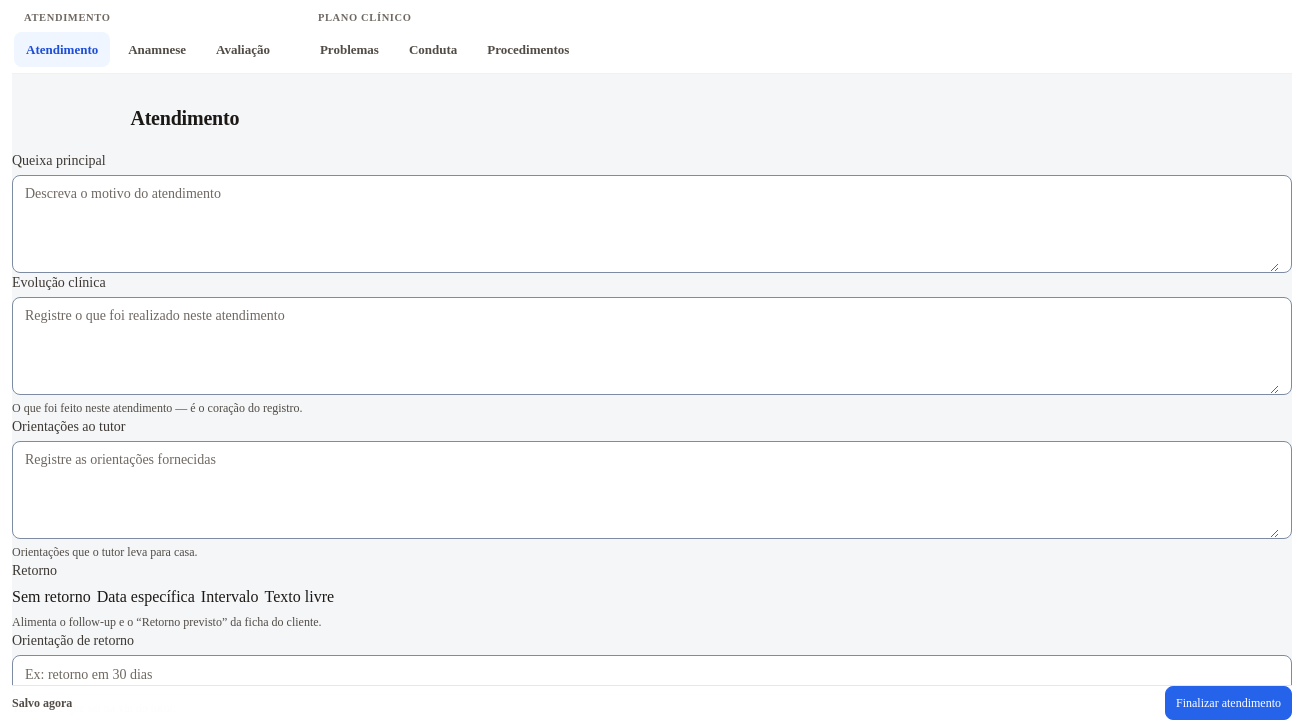
Test: F1B1 · troca de seção grava antes (mesma regra de saída do F1A) › troca com FALHA de gravação: NÃO troca de seção e o texto continua na tela
This screenshot has width=1304, height=720.
Type "Coceira que não pode sumir" into the text box labelled "Queixa principal" at (652, 224), box [25, 176, 1279, 272]
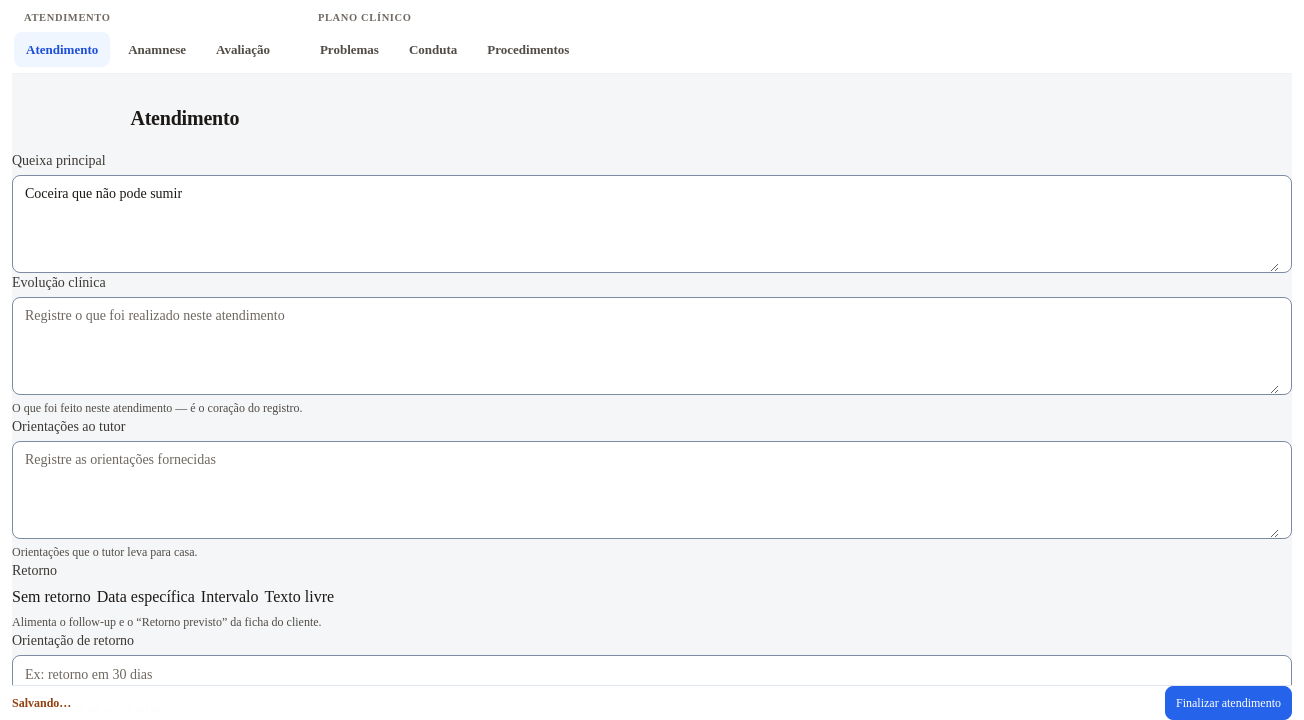
Click the button "Anamnese" at (157, 50), box [116, 32, 198, 67]
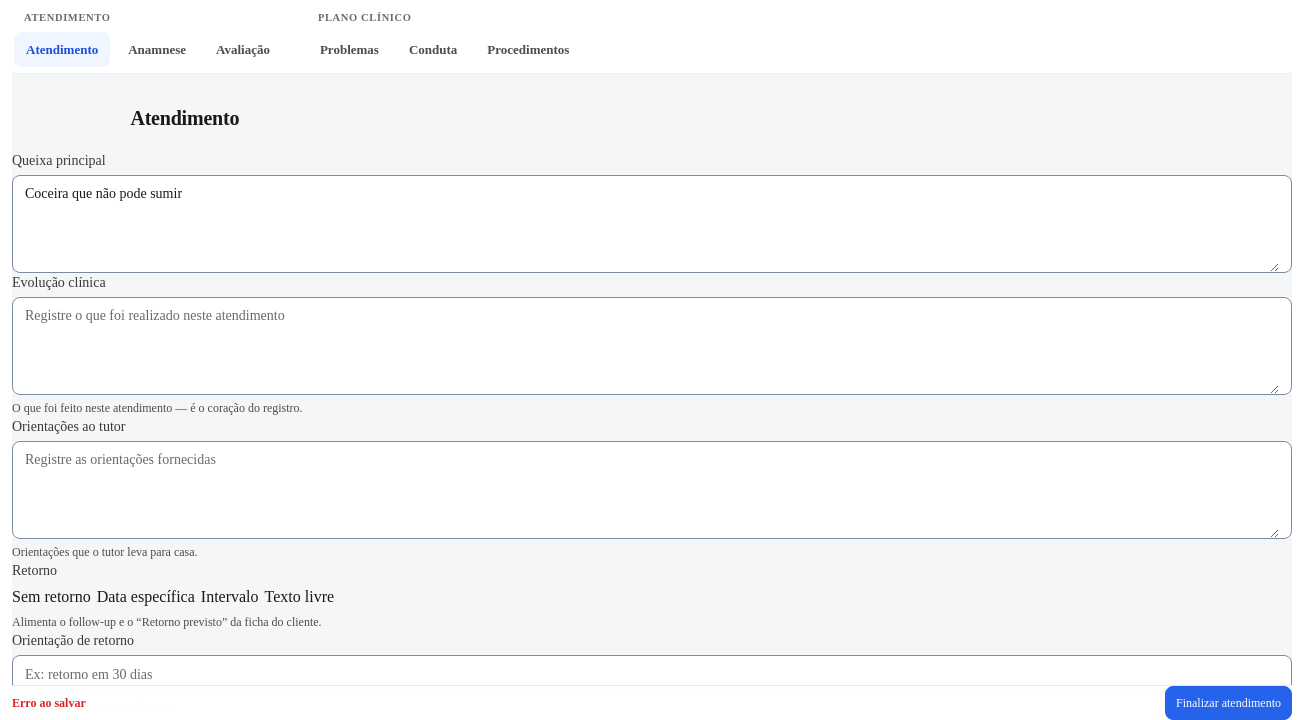
Now the message with test id "encounter-workspace-save-state" reads "Erro ao salvar", box [12, 696, 86, 710]
